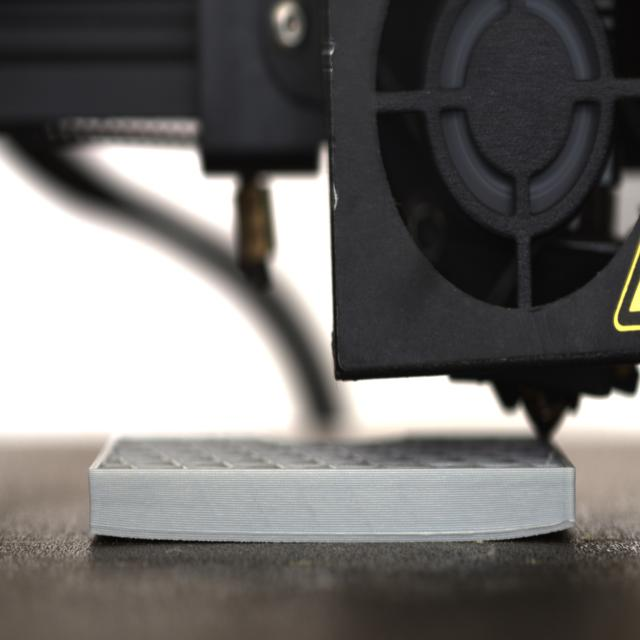Warping: (515, 514, 580, 546)
